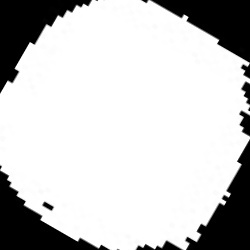spot: (1, 0, 249, 249)
